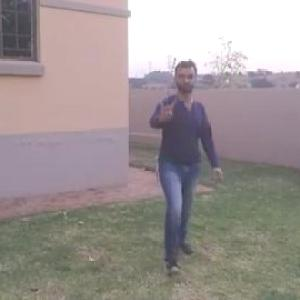takeoff-hand: (151, 90, 179, 127)
